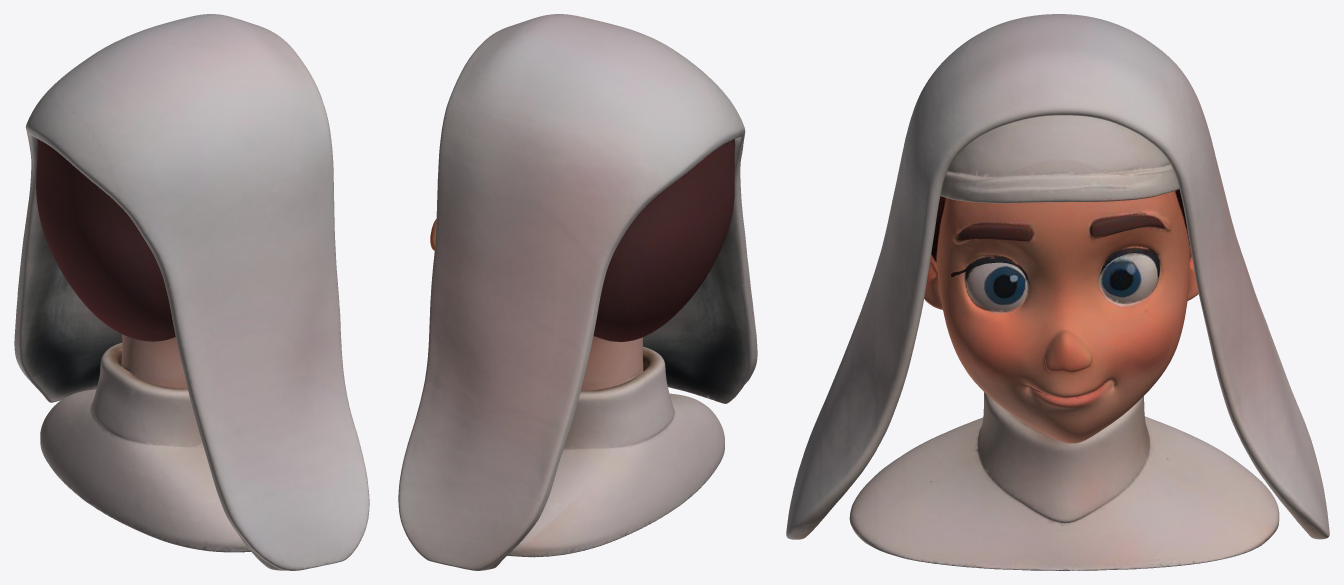
File: composer_hildegard.glb
3 views of the same model, side by side, from view 1: azimuth 30°, elevation 25°; view 2: azimuth 150°, elevation 25°; view 3: azimuth 270°, elevation 25° (orthographic). The views are drawn at different scales.
Visible parts, largest first — view 1: tripo_node_a28b8213-bb7c-4909-96c5-6b74d7f77e25; view 2: tripo_node_a28b8213-bb7c-4909-96c5-6b74d7f77e25; view 3: tripo_node_a28b8213-bb7c-4909-96c5-6b74d7f77e25.
Boxes of the visible parts, box(x1,y1,x2,y2) form: tripo_node_a28b8213-bb7c-4909-96c5-6b74d7f77e25: box(14, 14, 369, 570); tripo_node_a28b8213-bb7c-4909-96c5-6b74d7f77e25: box(398, 14, 757, 570); tripo_node_a28b8213-bb7c-4909-96c5-6b74d7f77e25: box(786, 14, 1329, 570).
Bounding box in the file's own units: 0.6586 × 0.9941 × 0.9999.
Materials: 1 (1 with a texture image).
